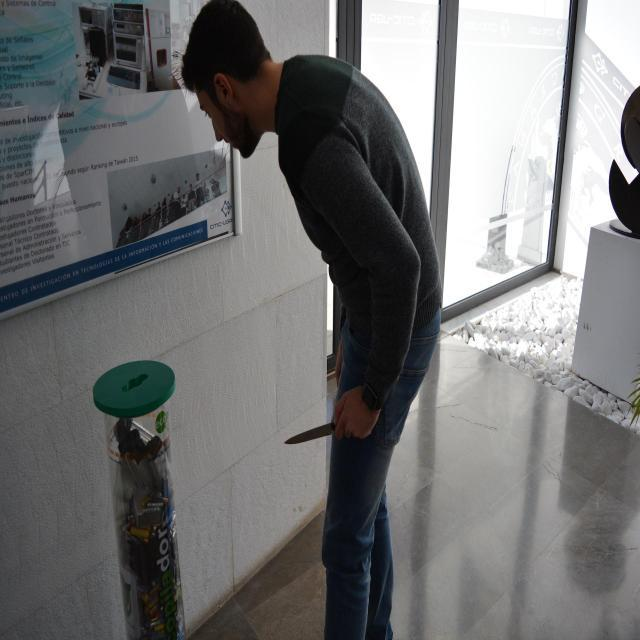faca: (286, 422, 334, 443)
